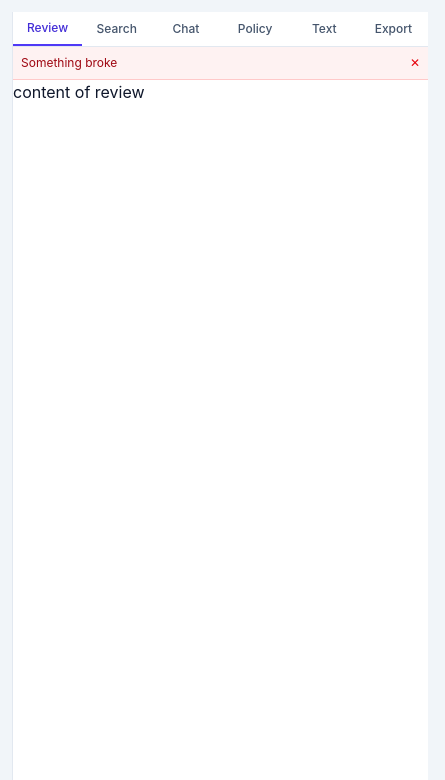
Test: ReviewSidebar tabs › shows an error banner that can be dismissed
The width and height of the screenshot is (445, 780).
Expected: the message shows "Something broke", [21,55,117,70]
Step 1. Click the button named "Dismiss error" → (415, 63), box [410,55,420,71]
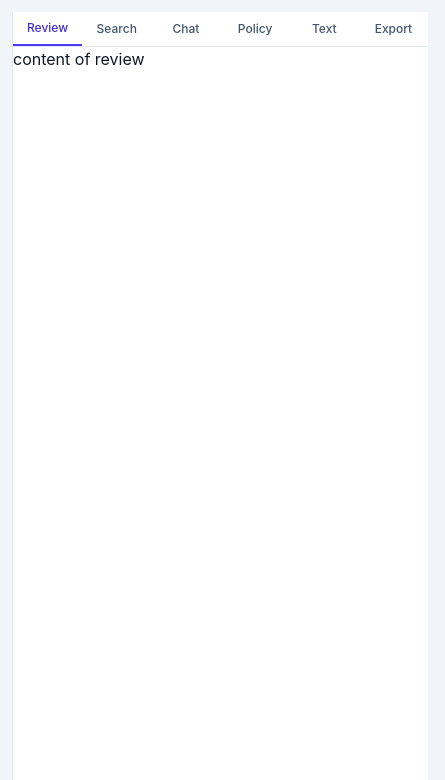
Expected: the message "Something broke ✕" is gone
